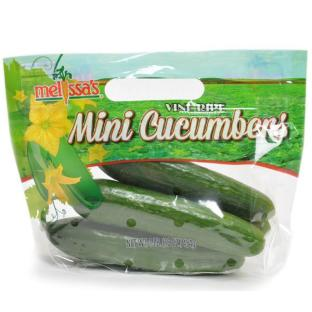Cucumber: (75, 180, 264, 256), (46, 218, 244, 274), (101, 162, 275, 222), (49, 137, 101, 209), (28, 142, 48, 200), (253, 221, 270, 235)
